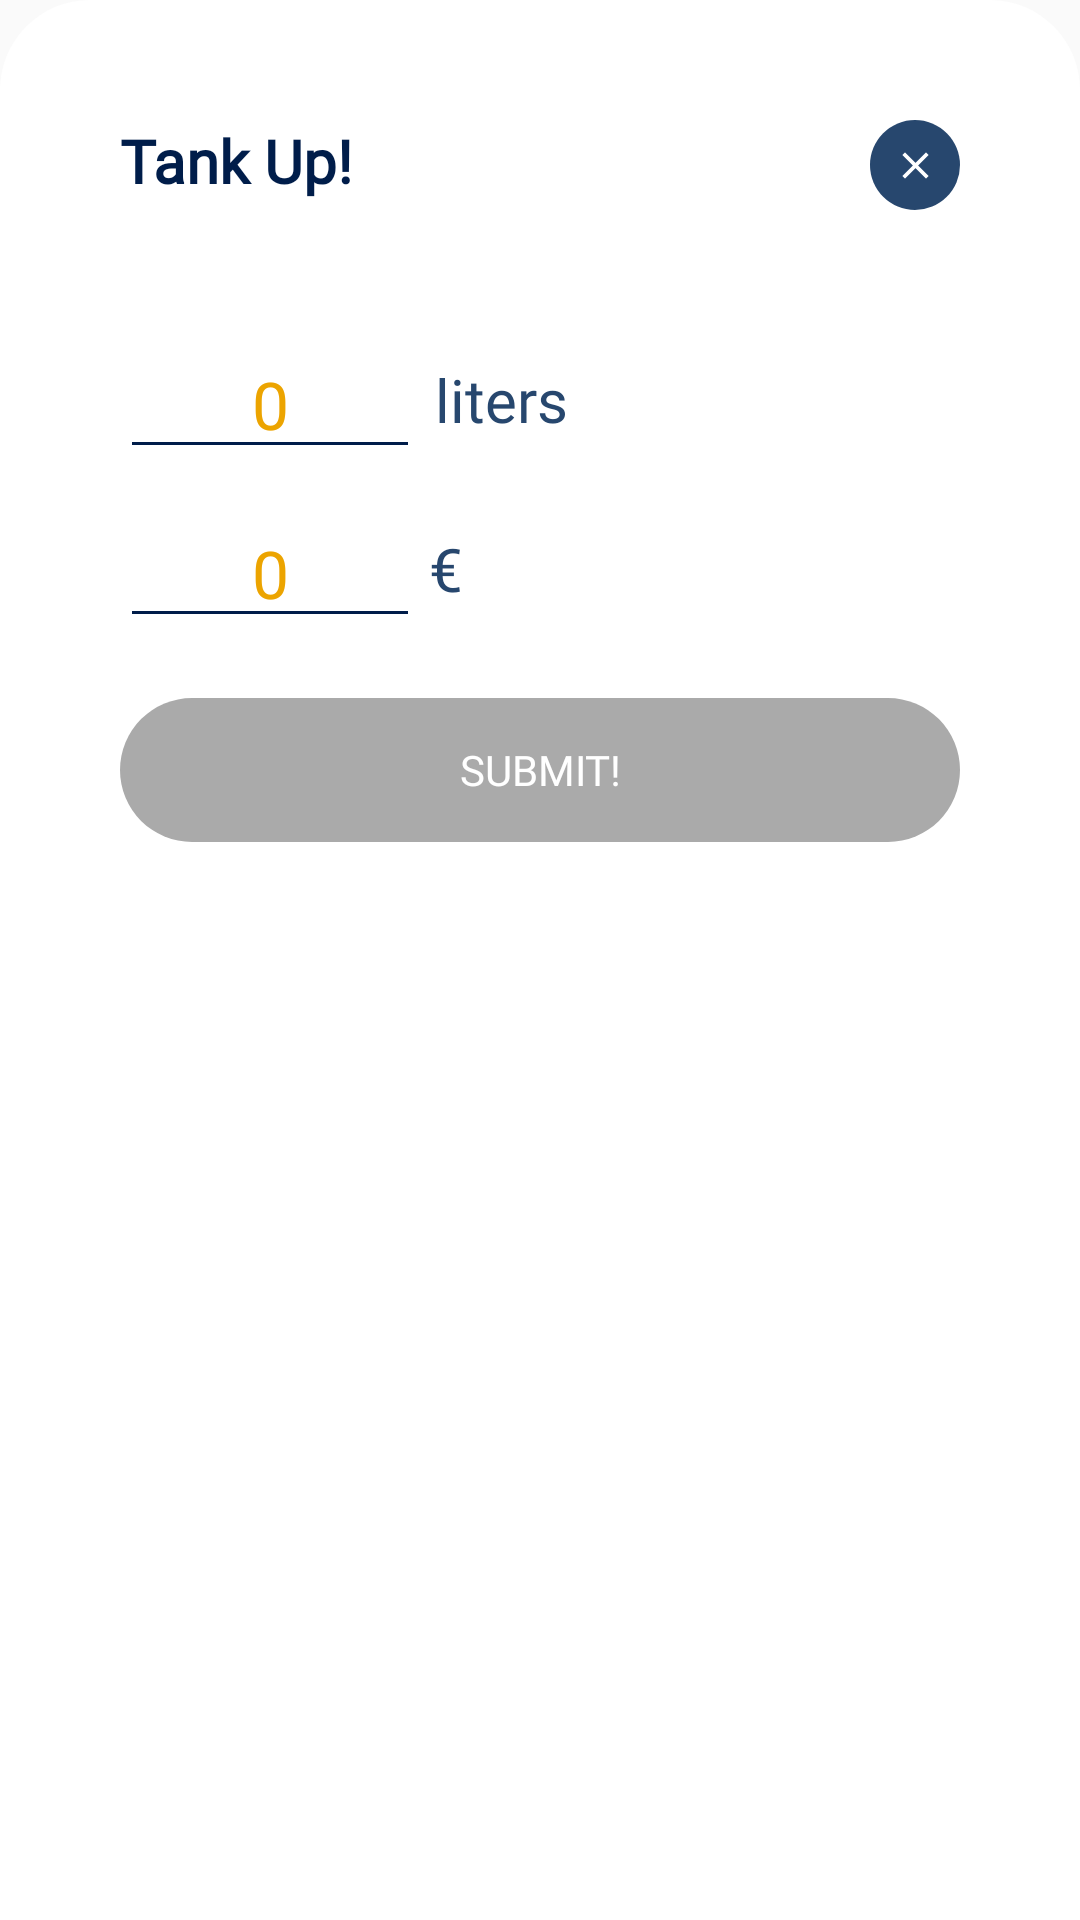

Named icons in this screenshot (1080px×1920px) and their bounding boxes, (x1, y1, x2, y2):
closeicon: (870, 120, 960, 210)
